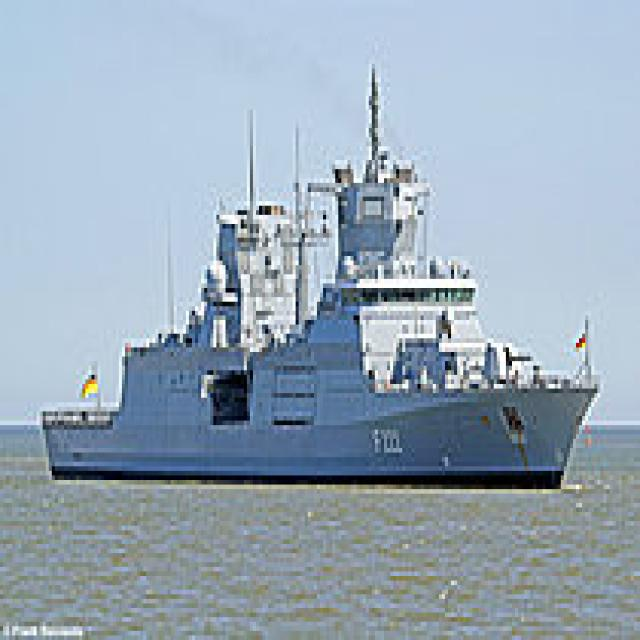Warship: (37, 55, 600, 489)
